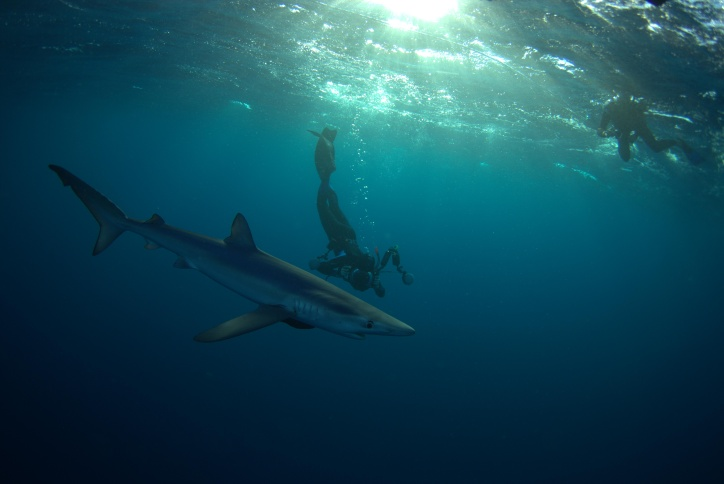Azul: (36, 155, 436, 374)
